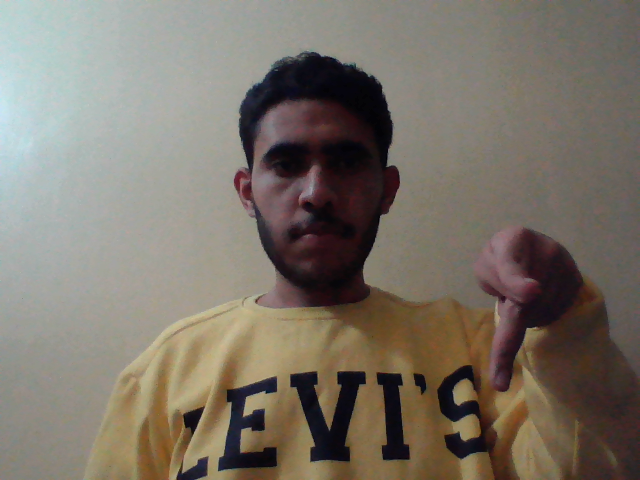P: (469, 218, 589, 399)
